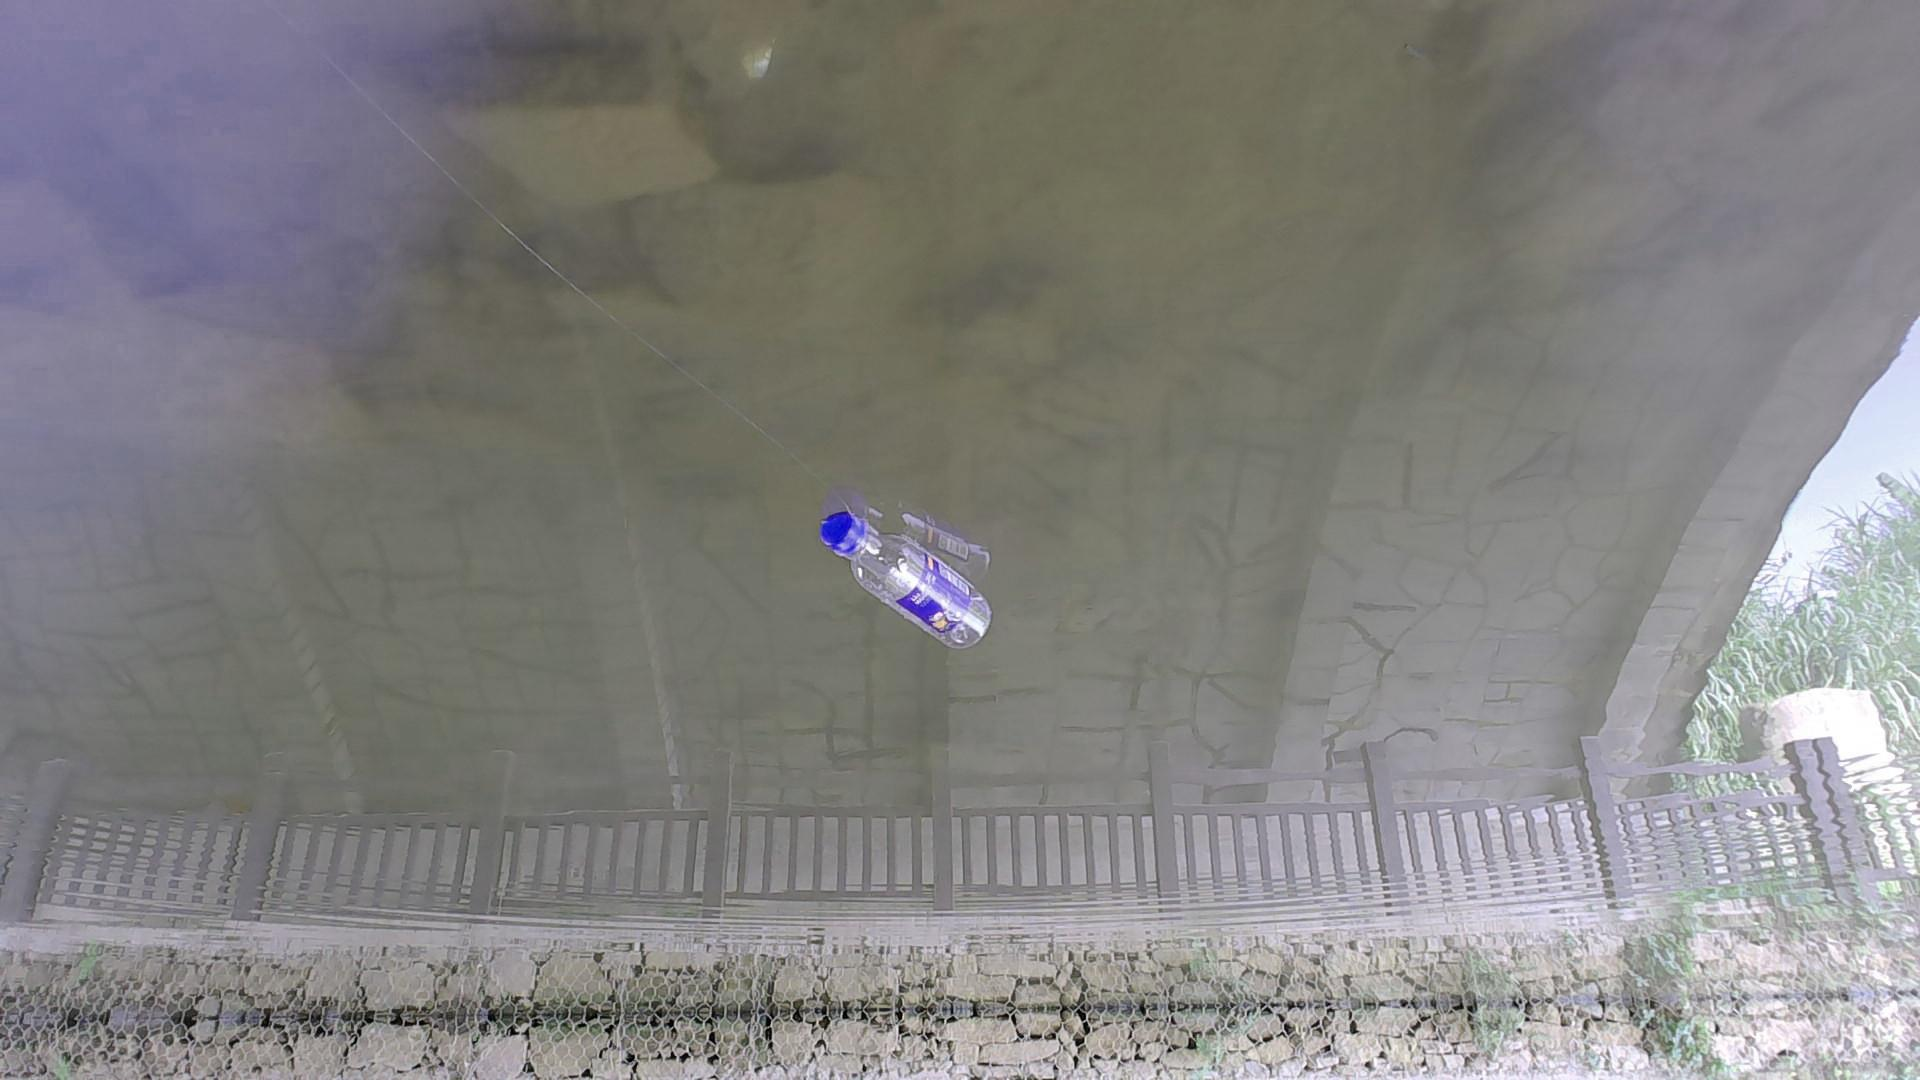Plastic: (812, 510, 998, 654)
